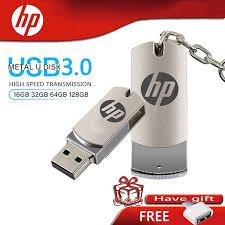Flash-drive: (48, 35, 210, 180)
